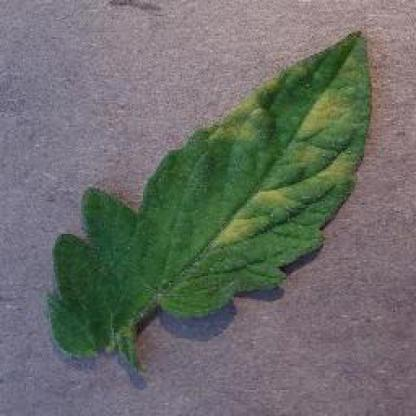Tomato_Leaf_Mold: (53, 32, 369, 356)
